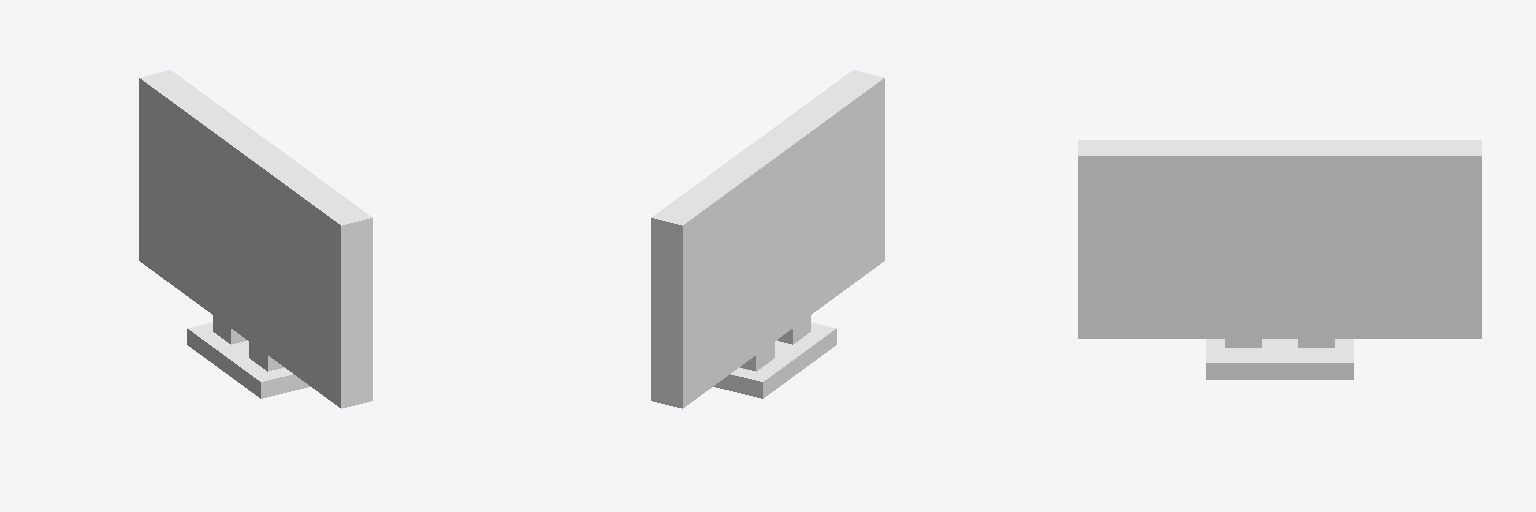
File: Computers-4.obj
3 views of the same model, side by side, from view 1: azimuth 30°, elevation 25°; view 2: azimuth 150°, elevation 25°; view 3: azimuth 270°, elevation 25° (orthographic).
Parts seen in each view (by area): view 1: Computers-4; view 2: Computers-4; view 3: Computers-4.
Part boxes in pixels (bbox=[...]): Computers-4: bbox=[139, 70, 372, 408]; Computers-4: bbox=[651, 70, 884, 408]; Computers-4: bbox=[1078, 140, 1481, 379].
Bounding box in the file's own units: 4 × 13 × 22.